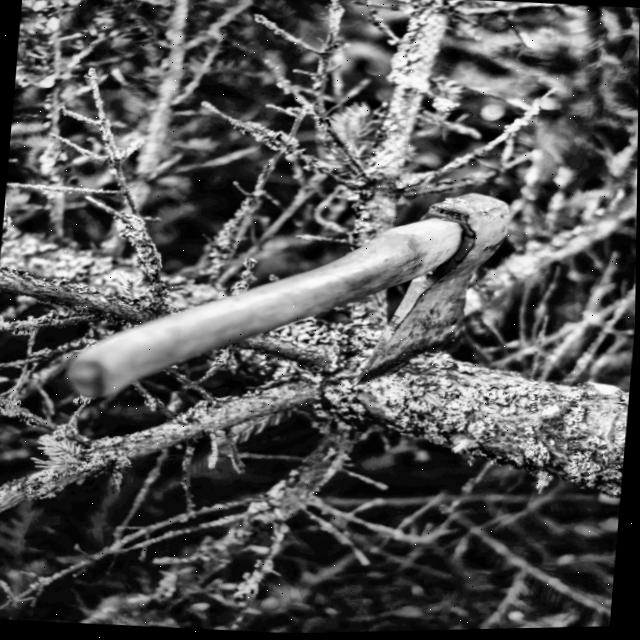kapak: (52, 141, 532, 427)
